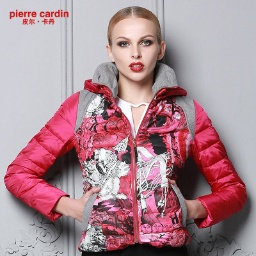face: (104, 4, 176, 93)
